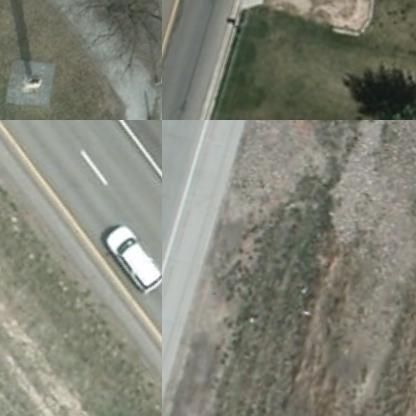car: (86, 219, 161, 308)
